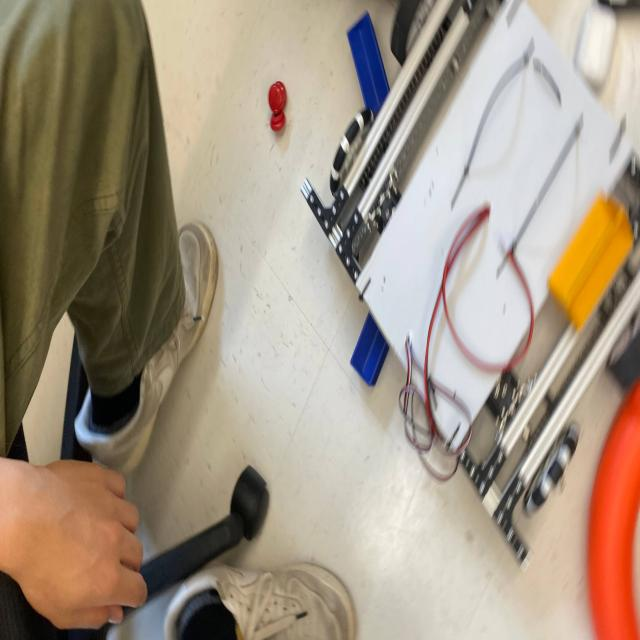blue-specimen: (347, 13, 390, 115), (350, 313, 389, 386)
yellow-specimen: (548, 197, 632, 328)
